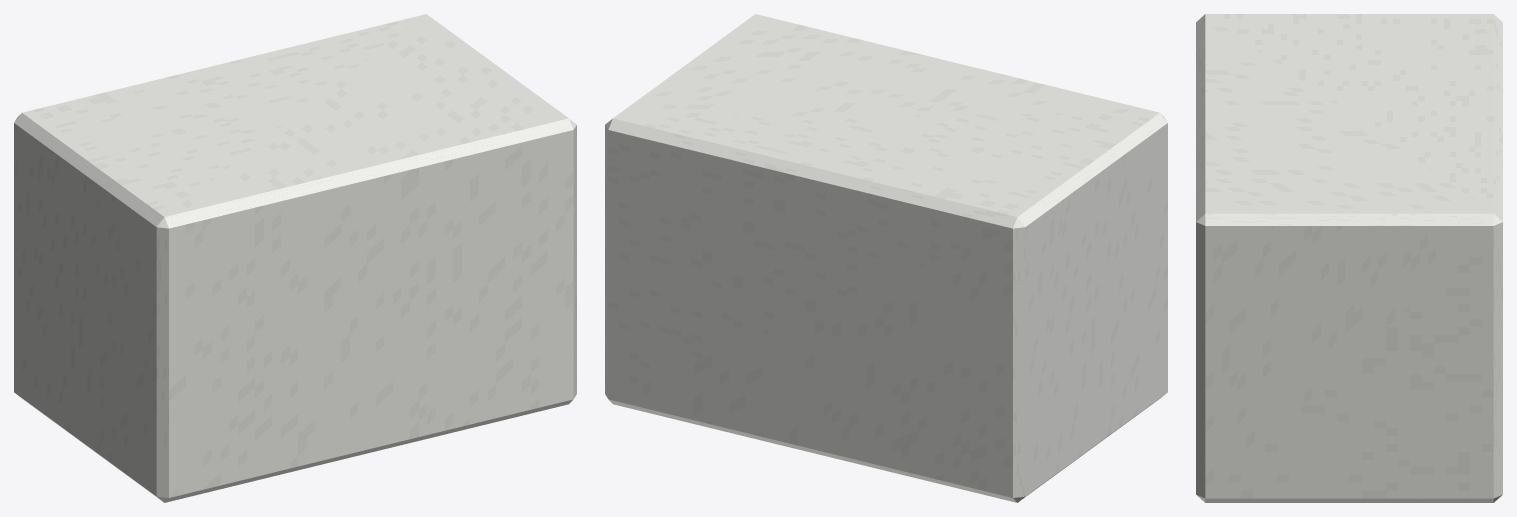
File: box_paper_small.glb
The picture shows the model from 3 angles, left to right: view 1: azimuth 30°, elevation 25°; view 2: azimuth 150°, elevation 25°; view 3: azimuth 270°, elevation 25°; orthographic projection.
Visible parts, largest first — view 1: block_box; view 2: block_box; view 3: block_box.
Boxes of the visible parts, x1,y1,x2,y2 form: block_box: (14,14,576,502); block_box: (605,14,1167,502); block_box: (1196,14,1502,502).
Bounding box in the file's own units: 0.08 × 0.052 × 0.05.
Materials: 1 (1 with a texture image).
